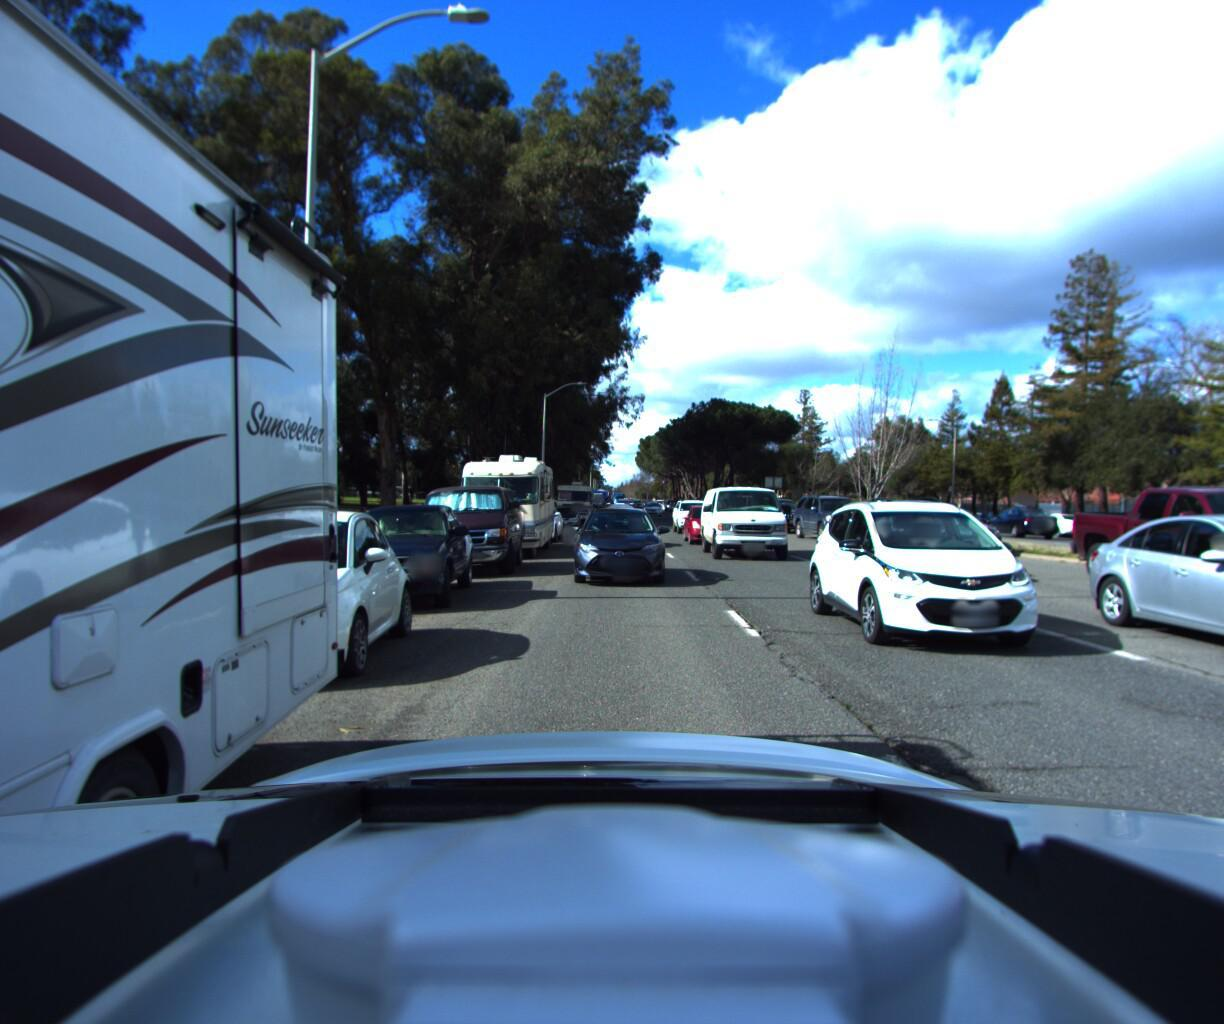bus: (447, 438, 562, 560)
car: (131, 503, 432, 705), (816, 480, 1093, 666), (1096, 508, 1224, 700), (1067, 475, 1224, 616), (313, 502, 486, 618), (846, 491, 997, 581), (405, 484, 531, 583), (572, 502, 674, 596), (696, 482, 798, 566), (886, 507, 1015, 560), (789, 495, 874, 545), (682, 501, 739, 551), (591, 501, 647, 550), (508, 505, 569, 547), (752, 495, 815, 535), (1031, 513, 1101, 543), (555, 482, 598, 527), (671, 500, 714, 538), (552, 508, 586, 538), (644, 504, 666, 521)
other_vehicle: (584, 494, 608, 519)
